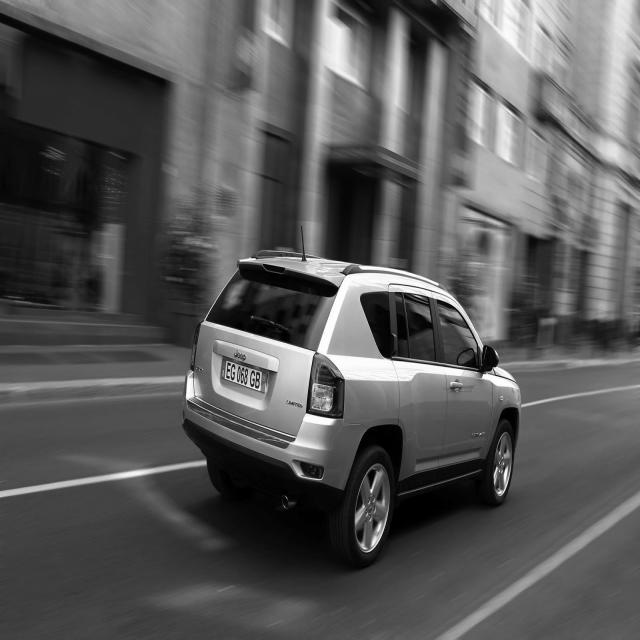car: (180, 230, 522, 568)
plat_license: (220, 358, 267, 393)
